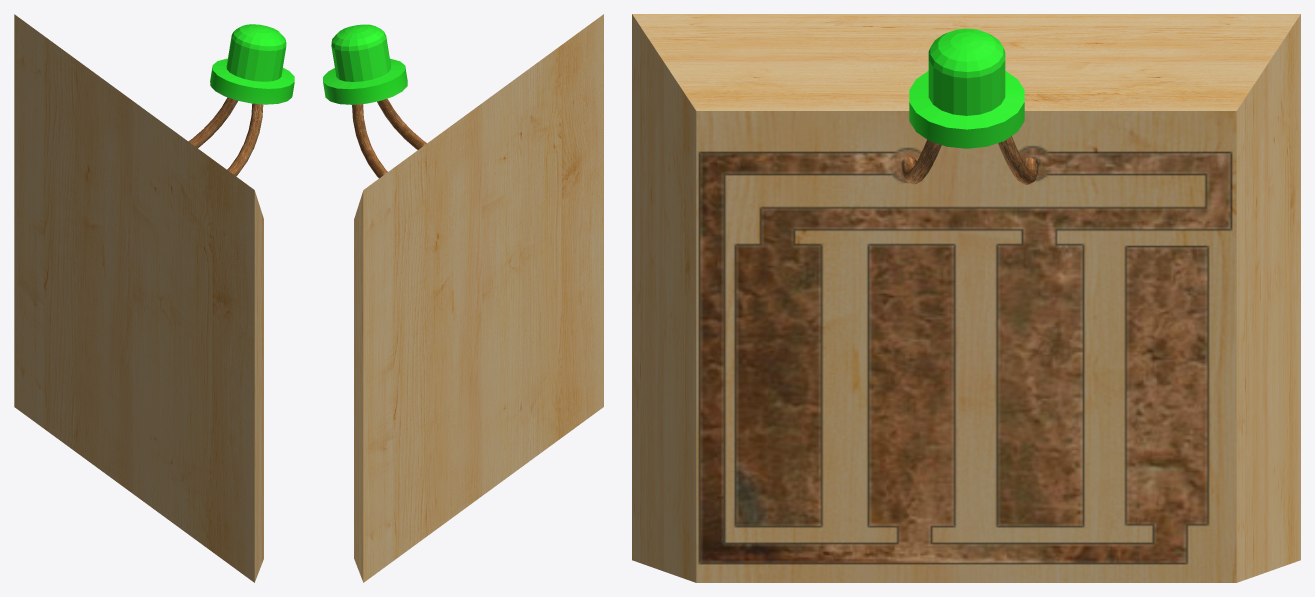
The model's file is flag.fbx.
The picture shows the model from 3 angles, left to right: view 1: azimuth 30°, elevation 25°; view 2: azimuth 150°, elevation 25°; view 3: azimuth 270°, elevation 25°; orthographic projection. The views are drawn at different scales.
Parts seen in each view (by area): view 1: Box001, Cylinder001, Cylinder002, Cylinder003; view 2: Box001, Cylinder001, Cylinder003, Cylinder002; view 3: Box001, Cylinder001, Cylinder003, Cylinder002.
Boxes of the visible parts, x1,y1,x2,y2 form: Box001: (14,14,263,582); Cylinder001: (210,24,294,104); Cylinder002: (227,103,263,176); Cylinder003: (188,97,237,148); Box001: (354,14,603,582); Cylinder001: (323,24,407,104); Cylinder003: (352,104,387,178); Cylinder002: (377,98,426,149); Box001: (632,14,1300,582); Cylinder001: (909,28,1024,148); Cylinder003: (998,136,1038,184); Cylinder002: (902,139,941,184).
Size of the model in its own units: 2.4 by 6.44 by 6.42.
4 materials, 4 textured.
